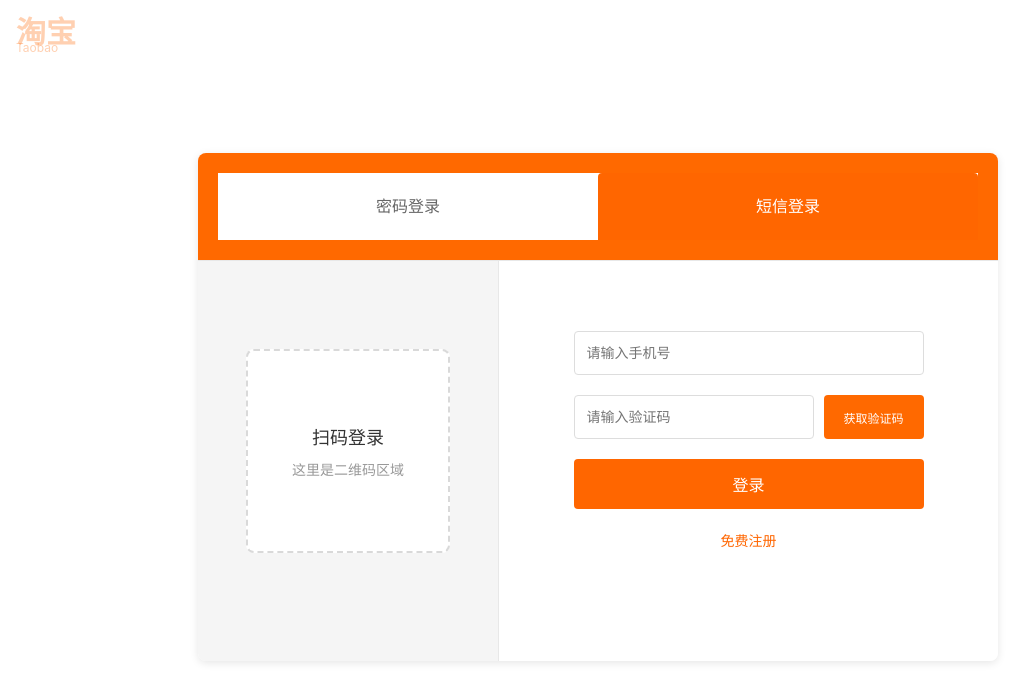
Test: LoginForm › 获取验证码后，按钮应该进入60秒倒计时且不可点击
//  输入有效手机号
Type "13800138000" into the field with placeholder "请输入手机号" at x=748, y=353, box [574,331,924,375]
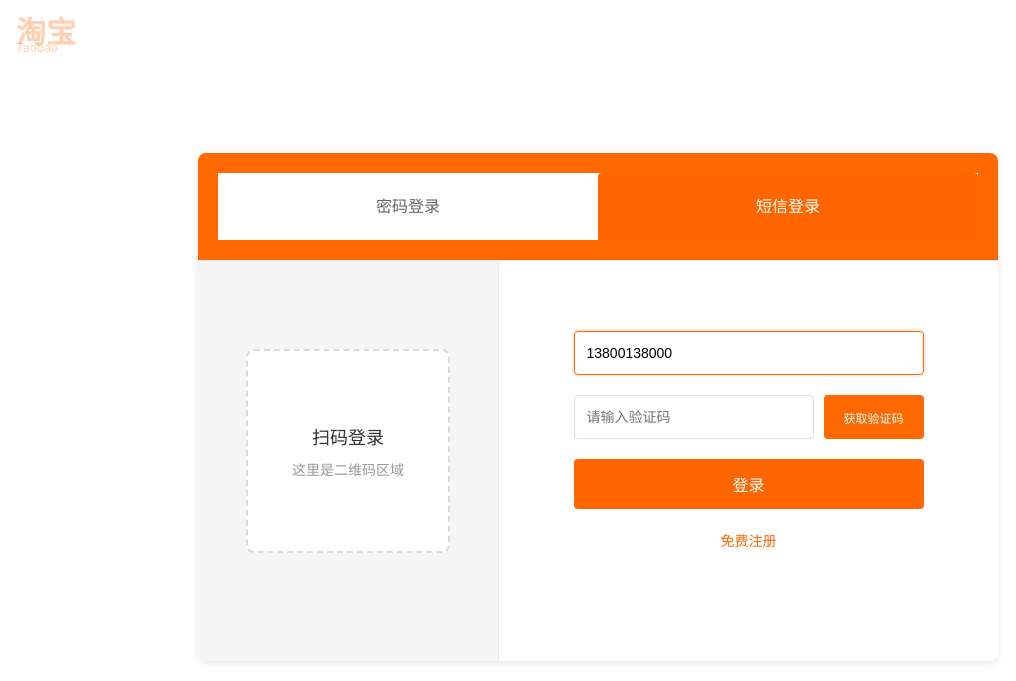
Click the button "获取验证码" at x=874, y=417, box [824,395,924,439]
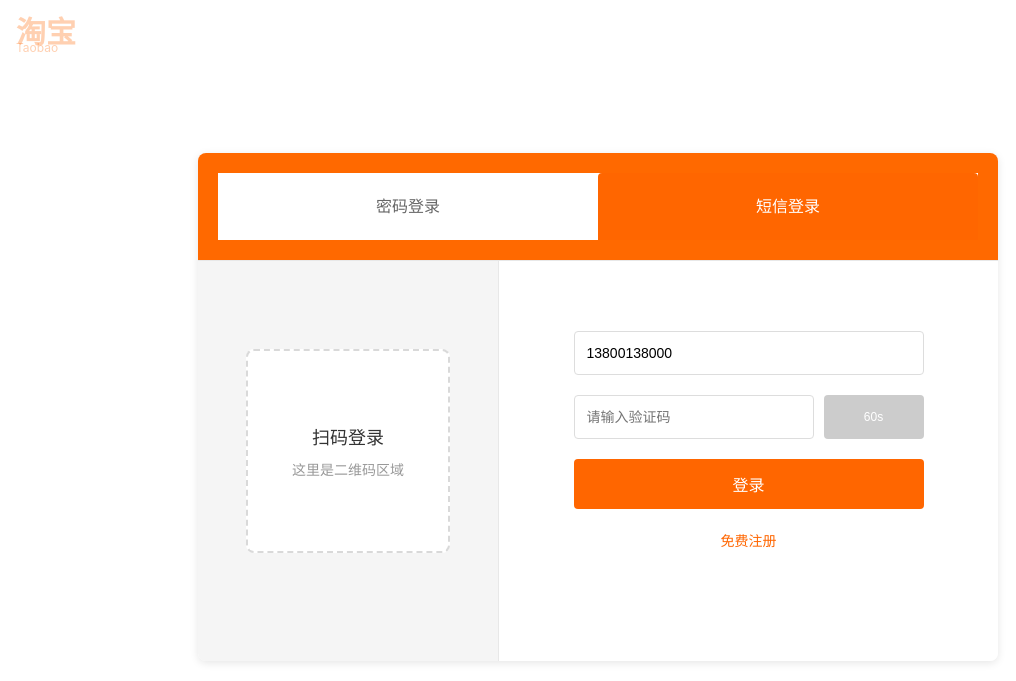
Now the button "获取验证码" is disabled, box [824,395,924,439]
Now the button "获取验证码" reads "60s", box [824,395,924,439]
